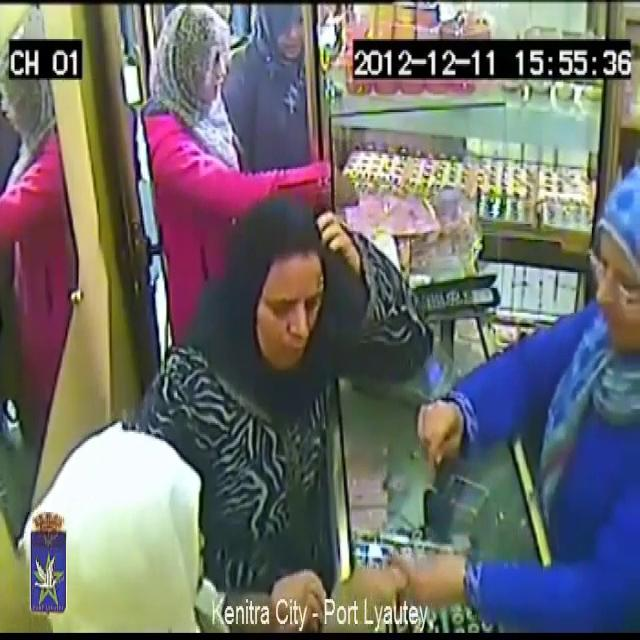normal: (426, 188, 640, 638), (6, 403, 241, 640), (142, 0, 345, 223), (214, 178, 345, 396), (228, 0, 314, 192)
